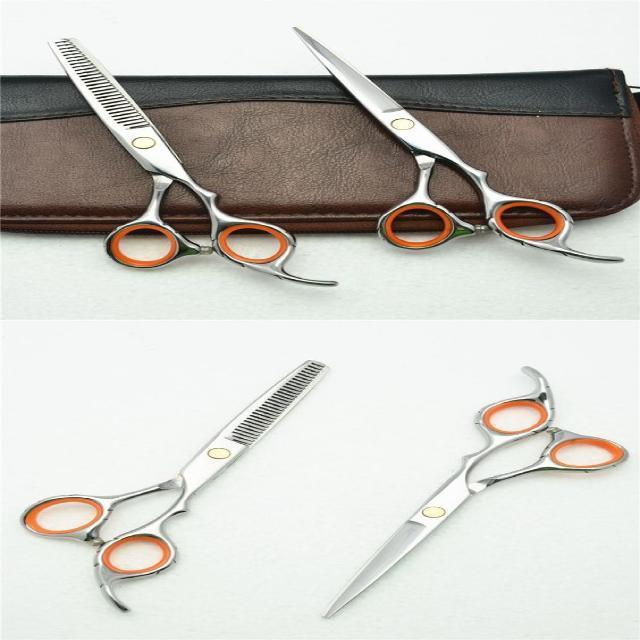scissor: (49, 28, 631, 291), (326, 366, 628, 624), (23, 363, 323, 619)
